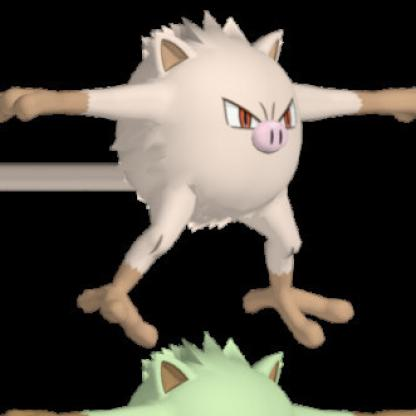Mankey: (1, 19, 416, 351)
